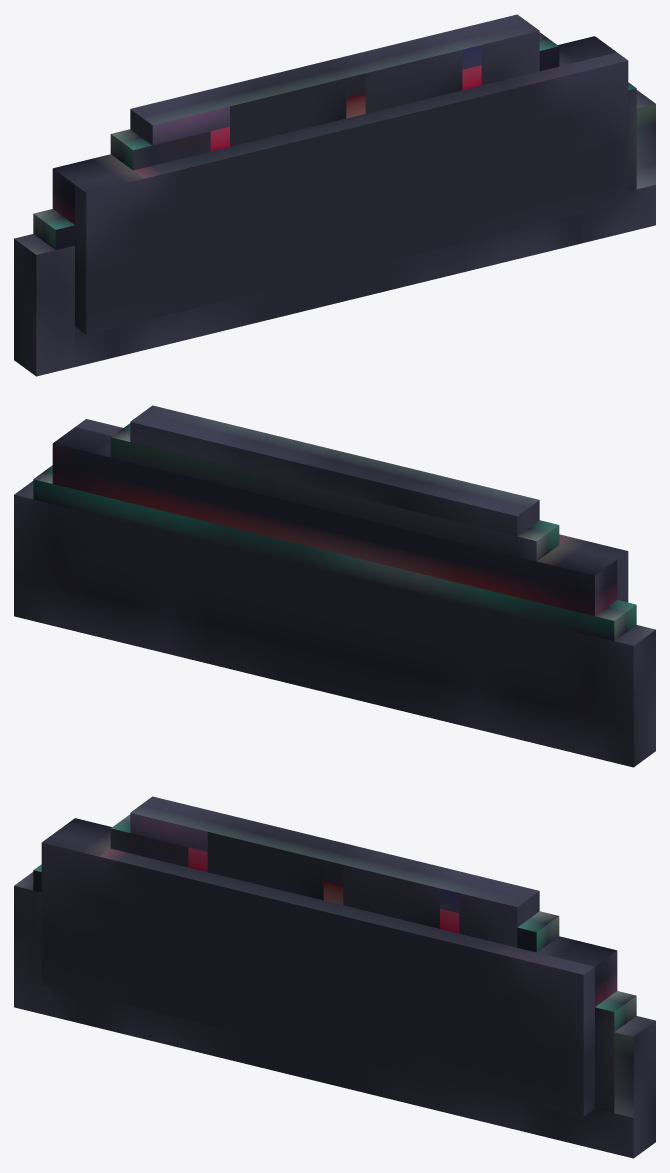
File: Electronics_Plate_Small_E_00.fbx
The picture shows the model from 3 angles, top to bottom: view 1: azimuth 30°, elevation 25°; view 2: azimuth 150°, elevation 25°; view 3: azimuth 330°, elevation 25°; orthographic projection.
Visible parts, largest first — view 1: Electronics_Plate_Small_E_00; view 2: Electronics_Plate_Small_E_00; view 3: Electronics_Plate_Small_E_00.
Boxes of the visible parts, x1,y1,x2,y2 form: Electronics_Plate_Small_E_00: (14, 14, 655, 376); Electronics_Plate_Small_E_00: (14, 405, 655, 767); Electronics_Plate_Small_E_00: (14, 796, 655, 1158).
Bounding box in the file's own units: 160 × 55 × 15.
